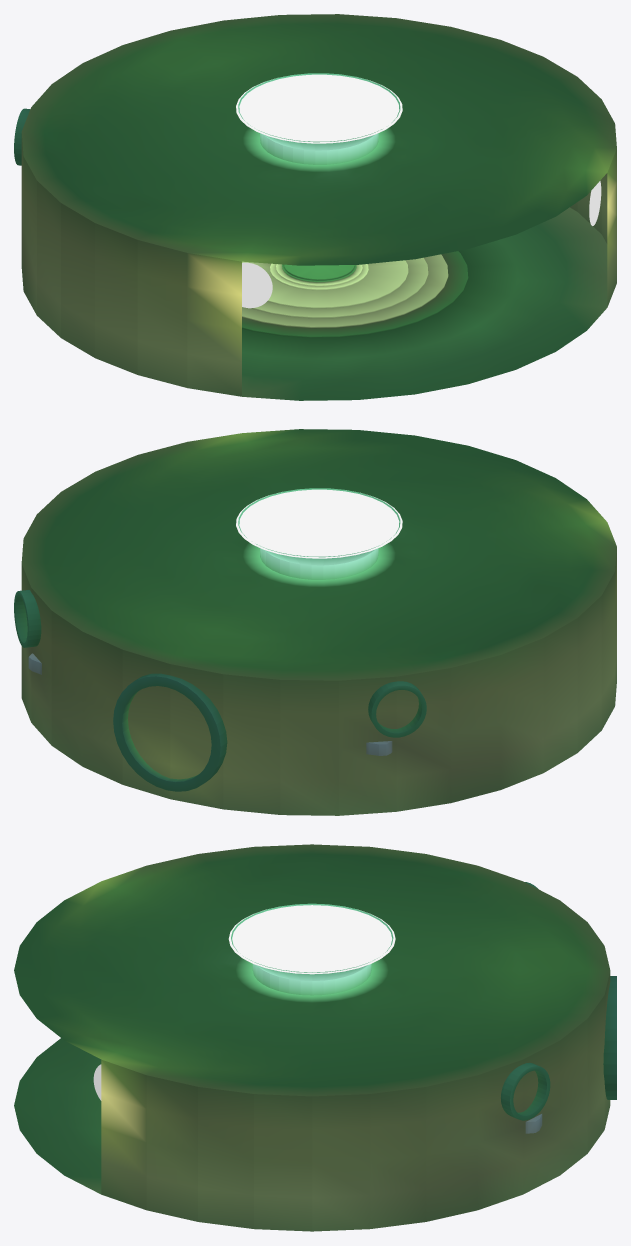
File: escenario5.glb
3 views of the same model, one above another, from view 1: azimuth 30°, elevation 25°; view 2: azimuth 150°, elevation 25°; view 3: azimuth 270°, elevation 25° (orthographic).
Visible parts, largest first — view 1: escenario, Circle.003, Circle.006; view 2: escenario, Circle.003, circuloCentral, circuloIzquierdo, circuloDerecho, Circle.004; view 3: escenario, Circle.003, circuloDerecho, circuloCentral.
Part boxes in pixels (box(x1,y1,x2,y2)): escenario: box(21, 14, 616, 400); Circle.003: box(236, 74, 402, 143); Circle.006: box(242, 262, 272, 308); escenario: box(21, 429, 616, 815); Circle.003: box(236, 489, 402, 558); circuloCentral: box(113, 673, 227, 791); circuloIzquierdo: box(368, 681, 426, 737); circuloDerecho: box(14, 590, 41, 647); Circle.004: box(28, 653, 392, 755); escenario: box(14, 844, 610, 1231); Circle.003: box(228, 905, 395, 974); circuloDerecho: box(501, 1062, 550, 1120); circuloCentral: box(603, 976, 616, 1099).
Bounding box in the file's own units: 30 × 9.3 × 30.33.
